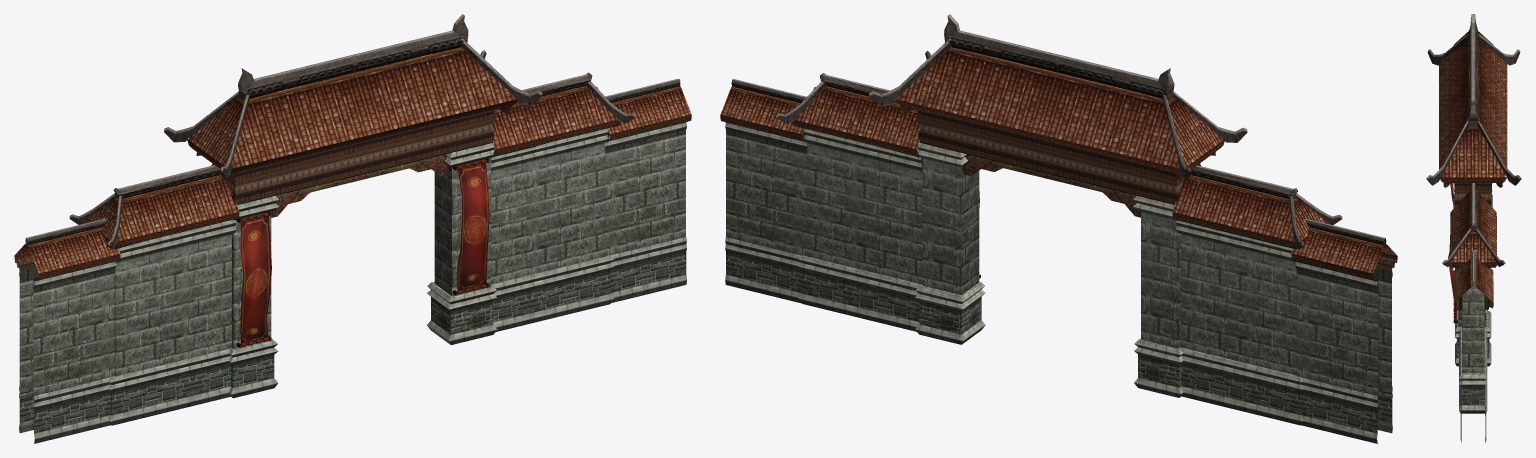
Rendered from a1s-002-inwall-01.fbx.
3 renders of one model, left to right at view 1: azimuth 30°, elevation 25°; view 2: azimuth 150°, elevation 25°; view 3: azimuth 270°, elevation 25°, orthographic. The views are drawn at different scales.
Visible parts, largest first — view 1: Mesh04; view 2: Mesh04; view 3: Mesh04.
Part boxes in pixels (x1,y1,x2,y2): Mesh04: (14, 14, 691, 443); Mesh04: (720, 14, 1397, 443); Mesh04: (1426, 14, 1521, 442).
Bounding box in the file's own units: 26.85 × 12.47 × 4.19.
